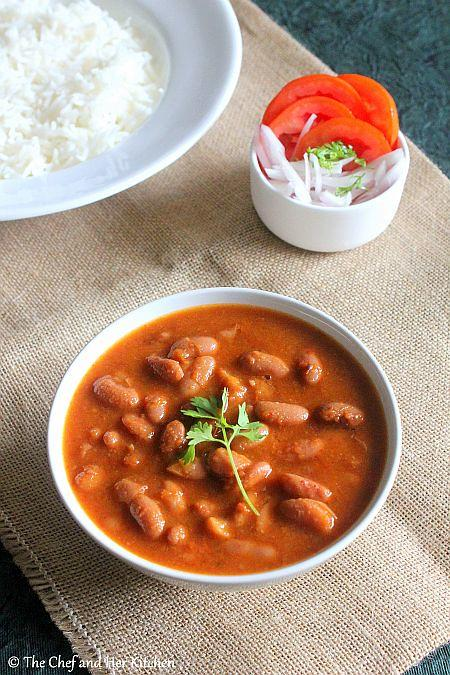rajma: (80, 313, 370, 573)
